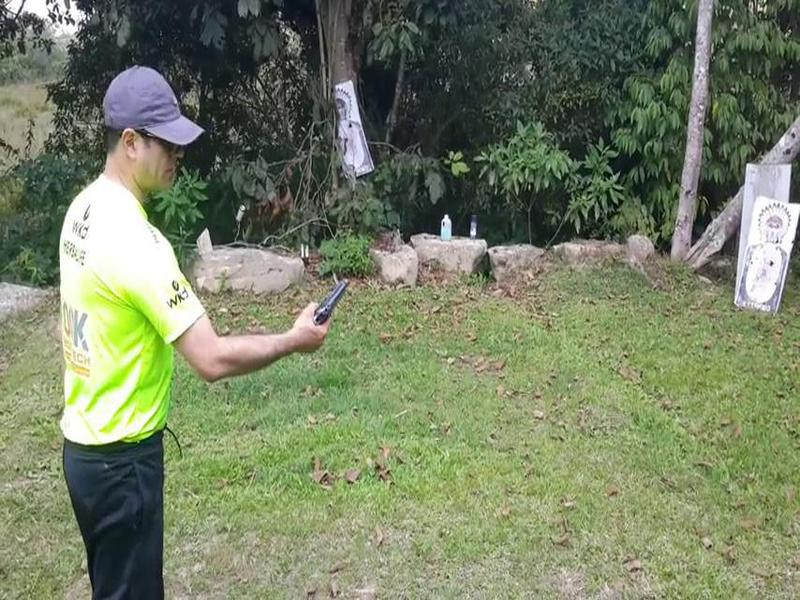Pistola: (305, 271, 356, 335)
